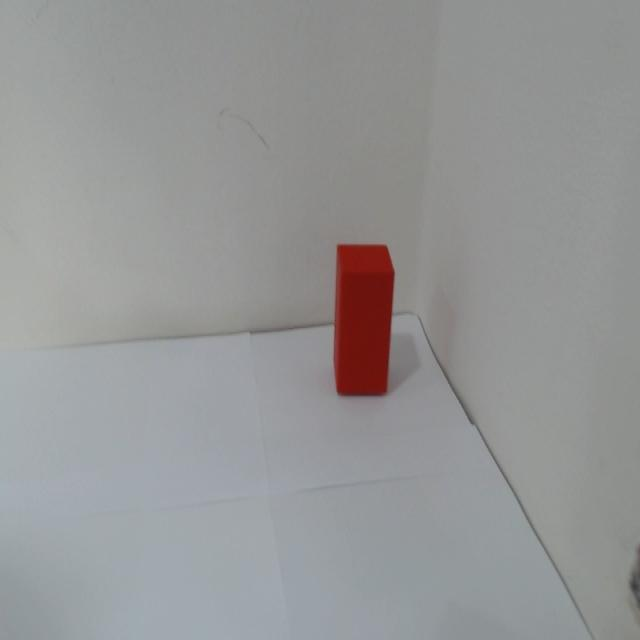cube: (324, 239, 400, 401)
